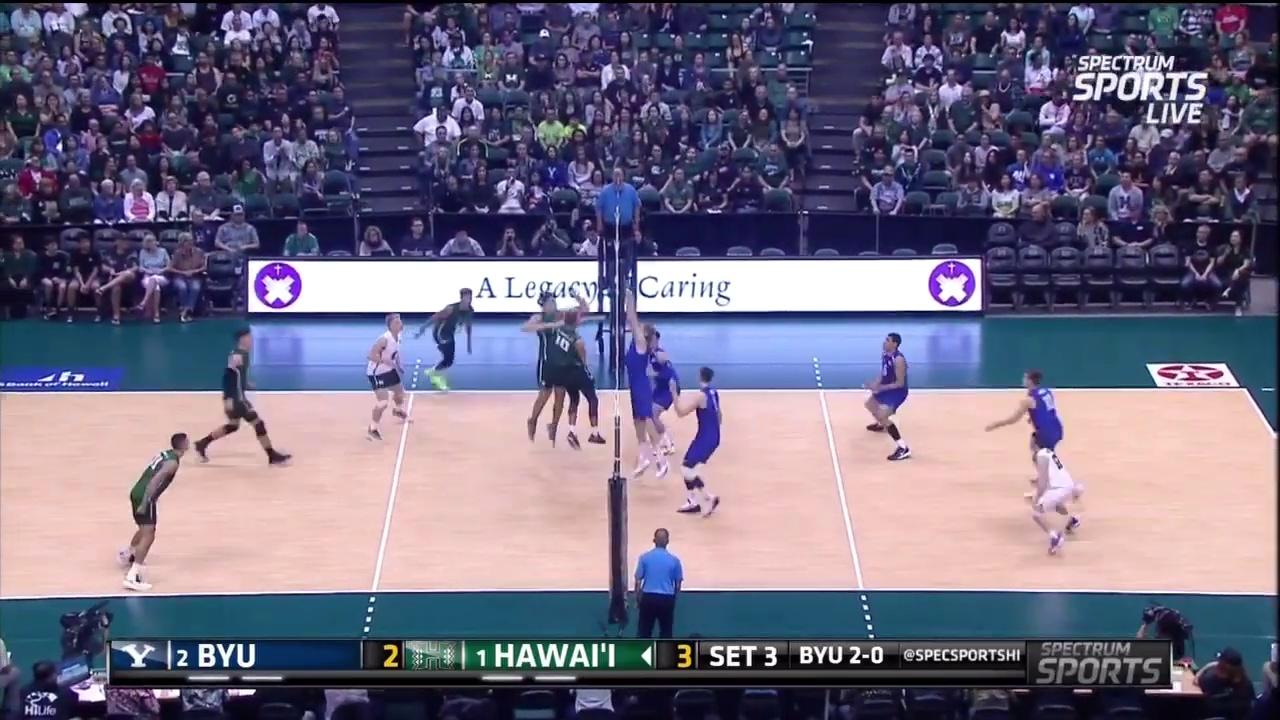player: (191, 333, 294, 467), (121, 437, 189, 585), (665, 364, 724, 515), (624, 290, 659, 483), (521, 289, 564, 446), (1025, 433, 1079, 556), (1001, 363, 1070, 458), (556, 305, 597, 459), (863, 334, 913, 459), (364, 317, 410, 440), (424, 287, 473, 390), (648, 318, 679, 456)
refree: (594, 166, 641, 289), (631, 532, 681, 639)
